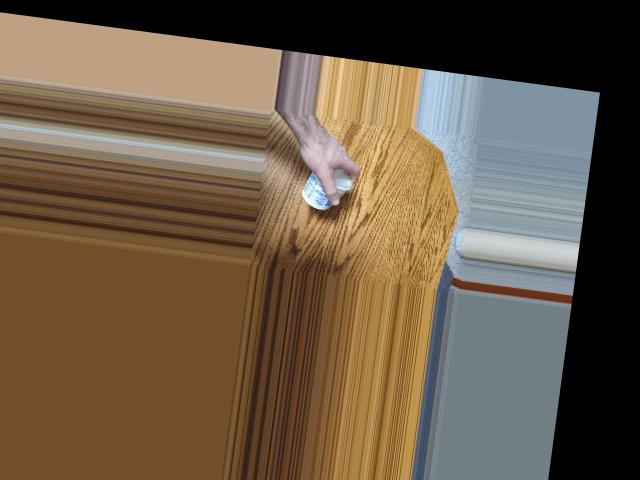cotage: (299, 159, 354, 210)
